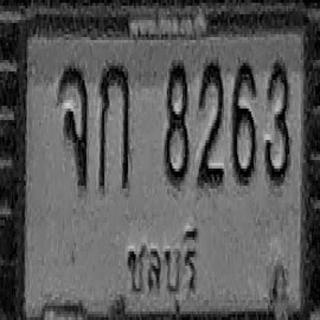A01: (98, 63, 129, 192)
A08: (58, 63, 88, 189)
N02: (197, 59, 223, 187)
N03: (265, 59, 290, 184)
N06: (232, 59, 257, 184)
N08: (164, 59, 189, 184)
P13: (123, 210, 201, 317)
